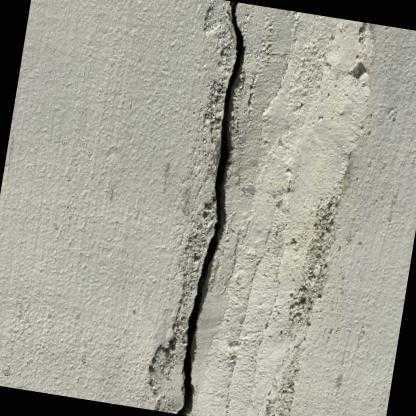crack: (172, 0, 246, 416)
